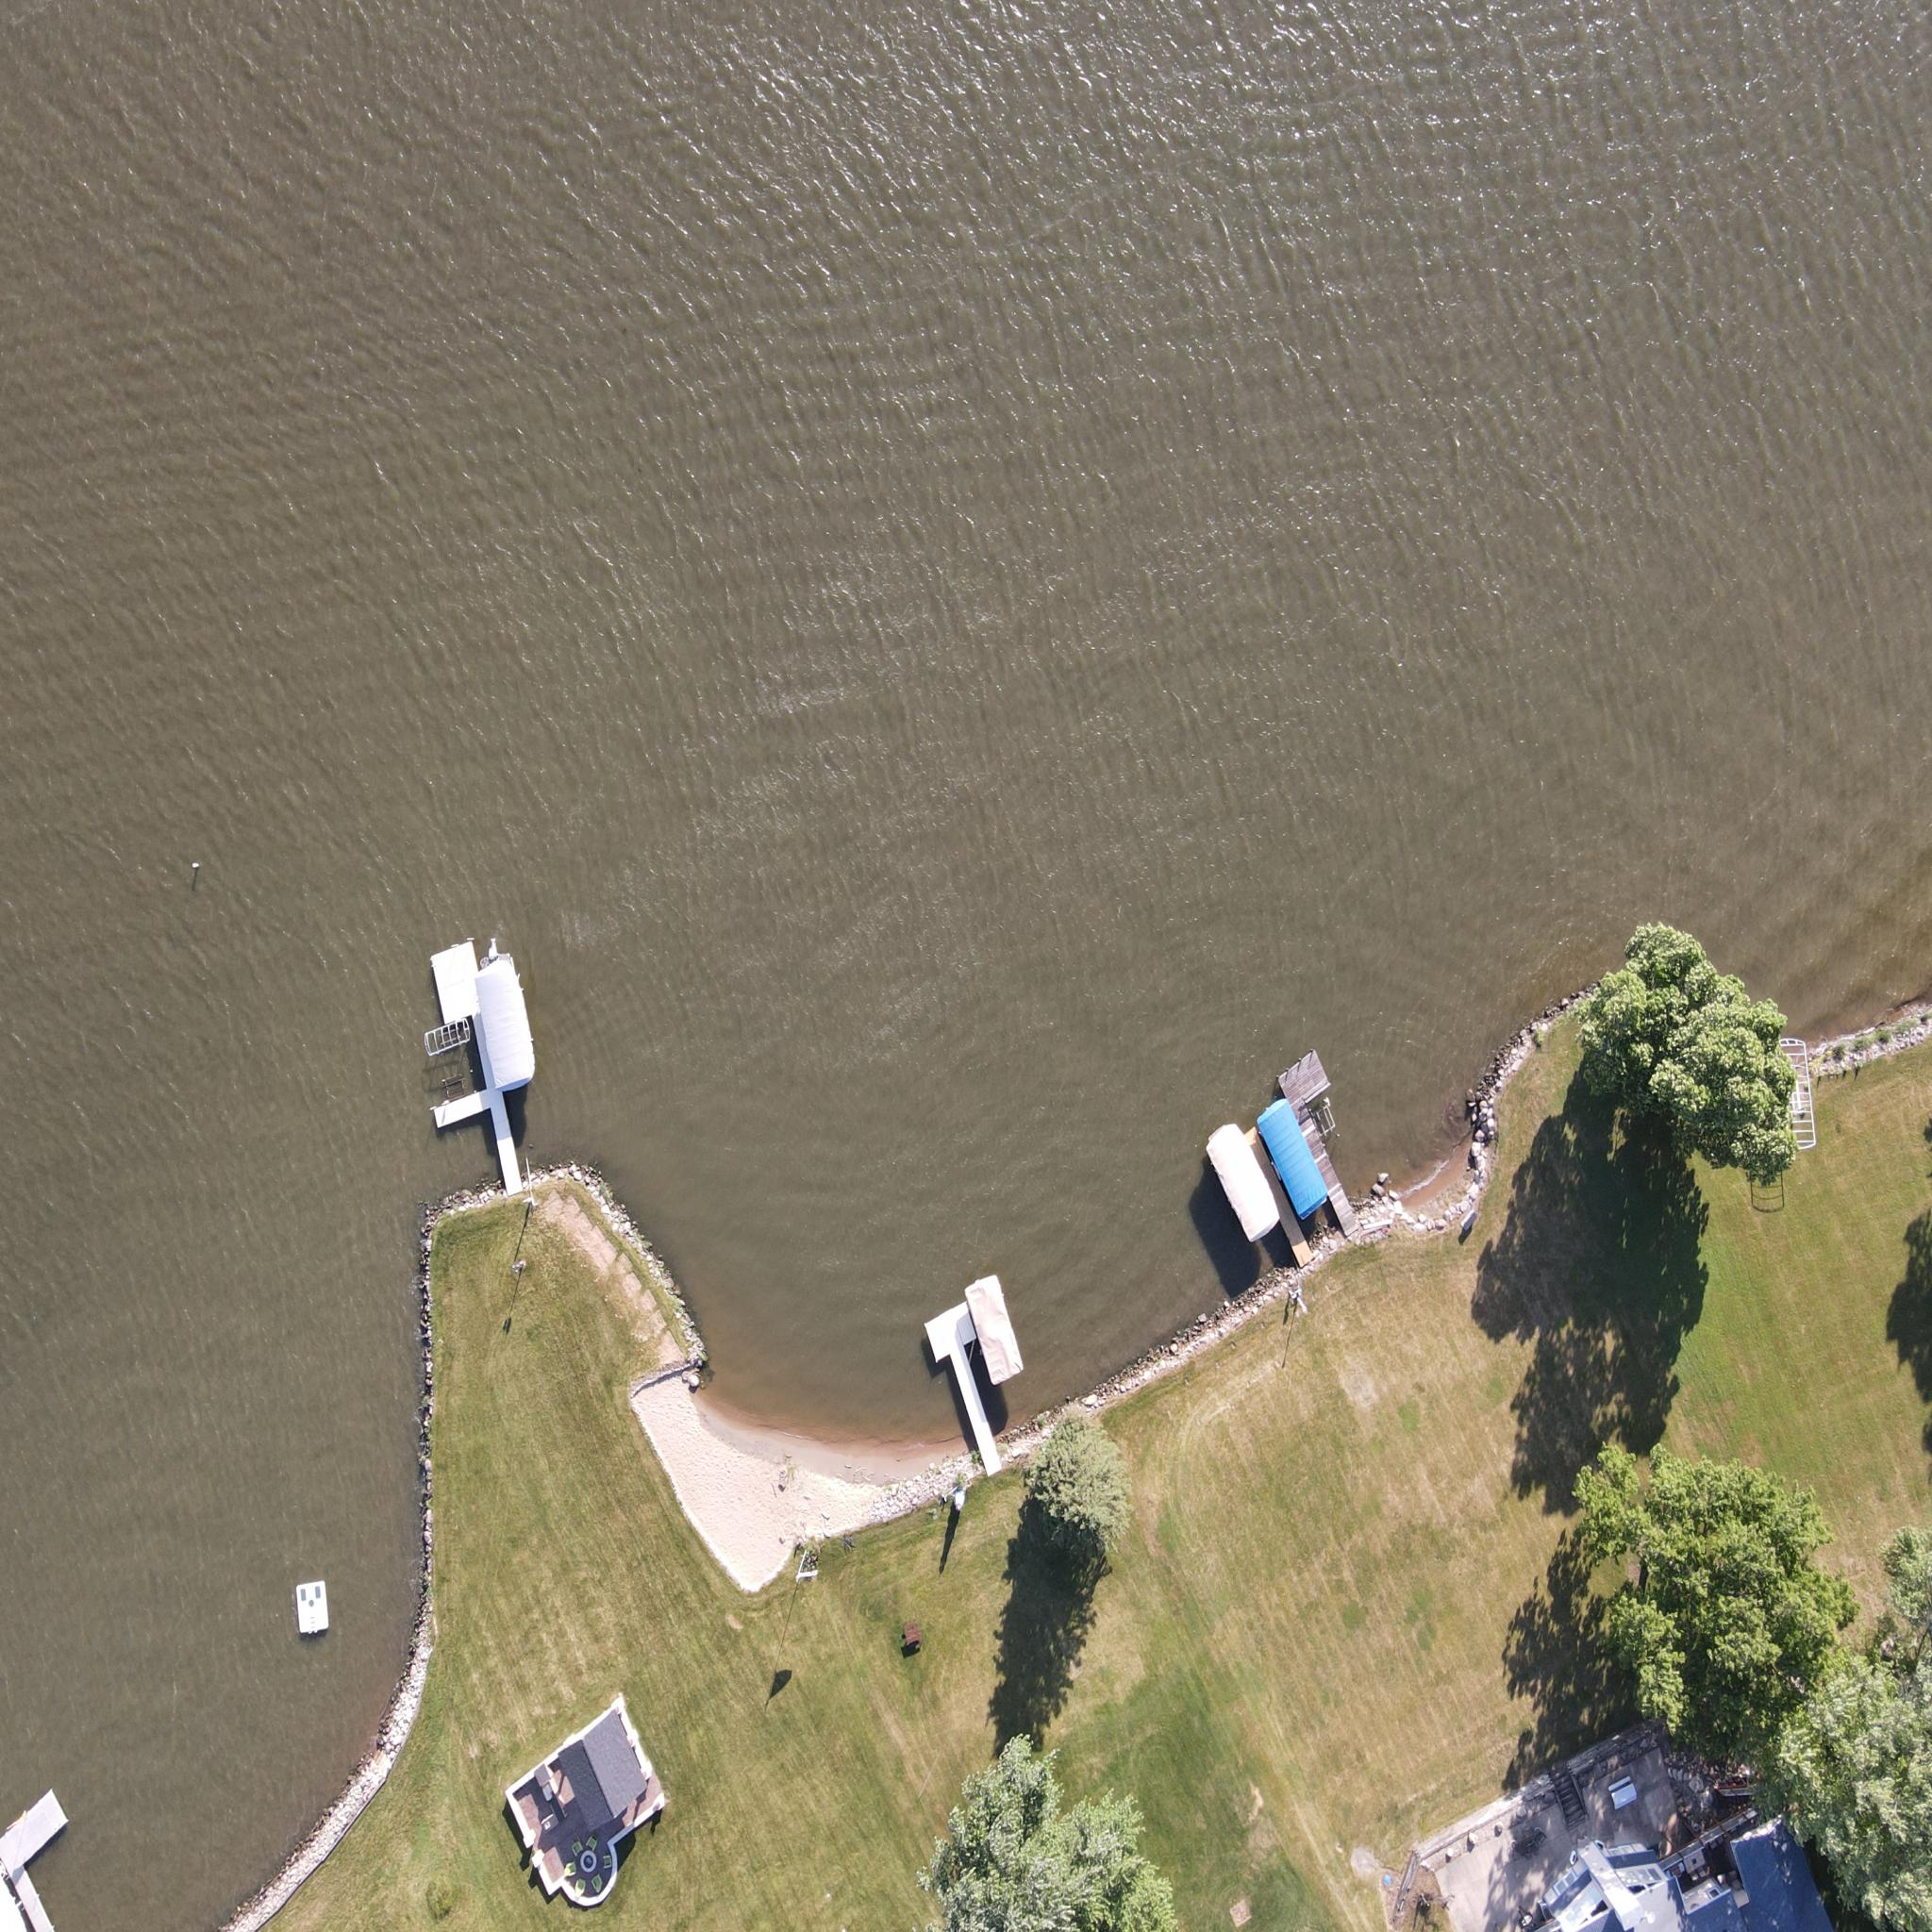dock: (423, 936, 527, 1201), (1269, 1044, 1366, 1238), (913, 1297, 1005, 1479), (1238, 1116, 1318, 1270), (0, 1775, 73, 1930)
lift: (469, 947, 541, 1099), (1201, 1118, 1283, 1247), (1251, 1093, 1330, 1223), (959, 1269, 1028, 1387), (1766, 1028, 1821, 1157), (0, 1842, 30, 1932), (419, 1014, 472, 1058)
